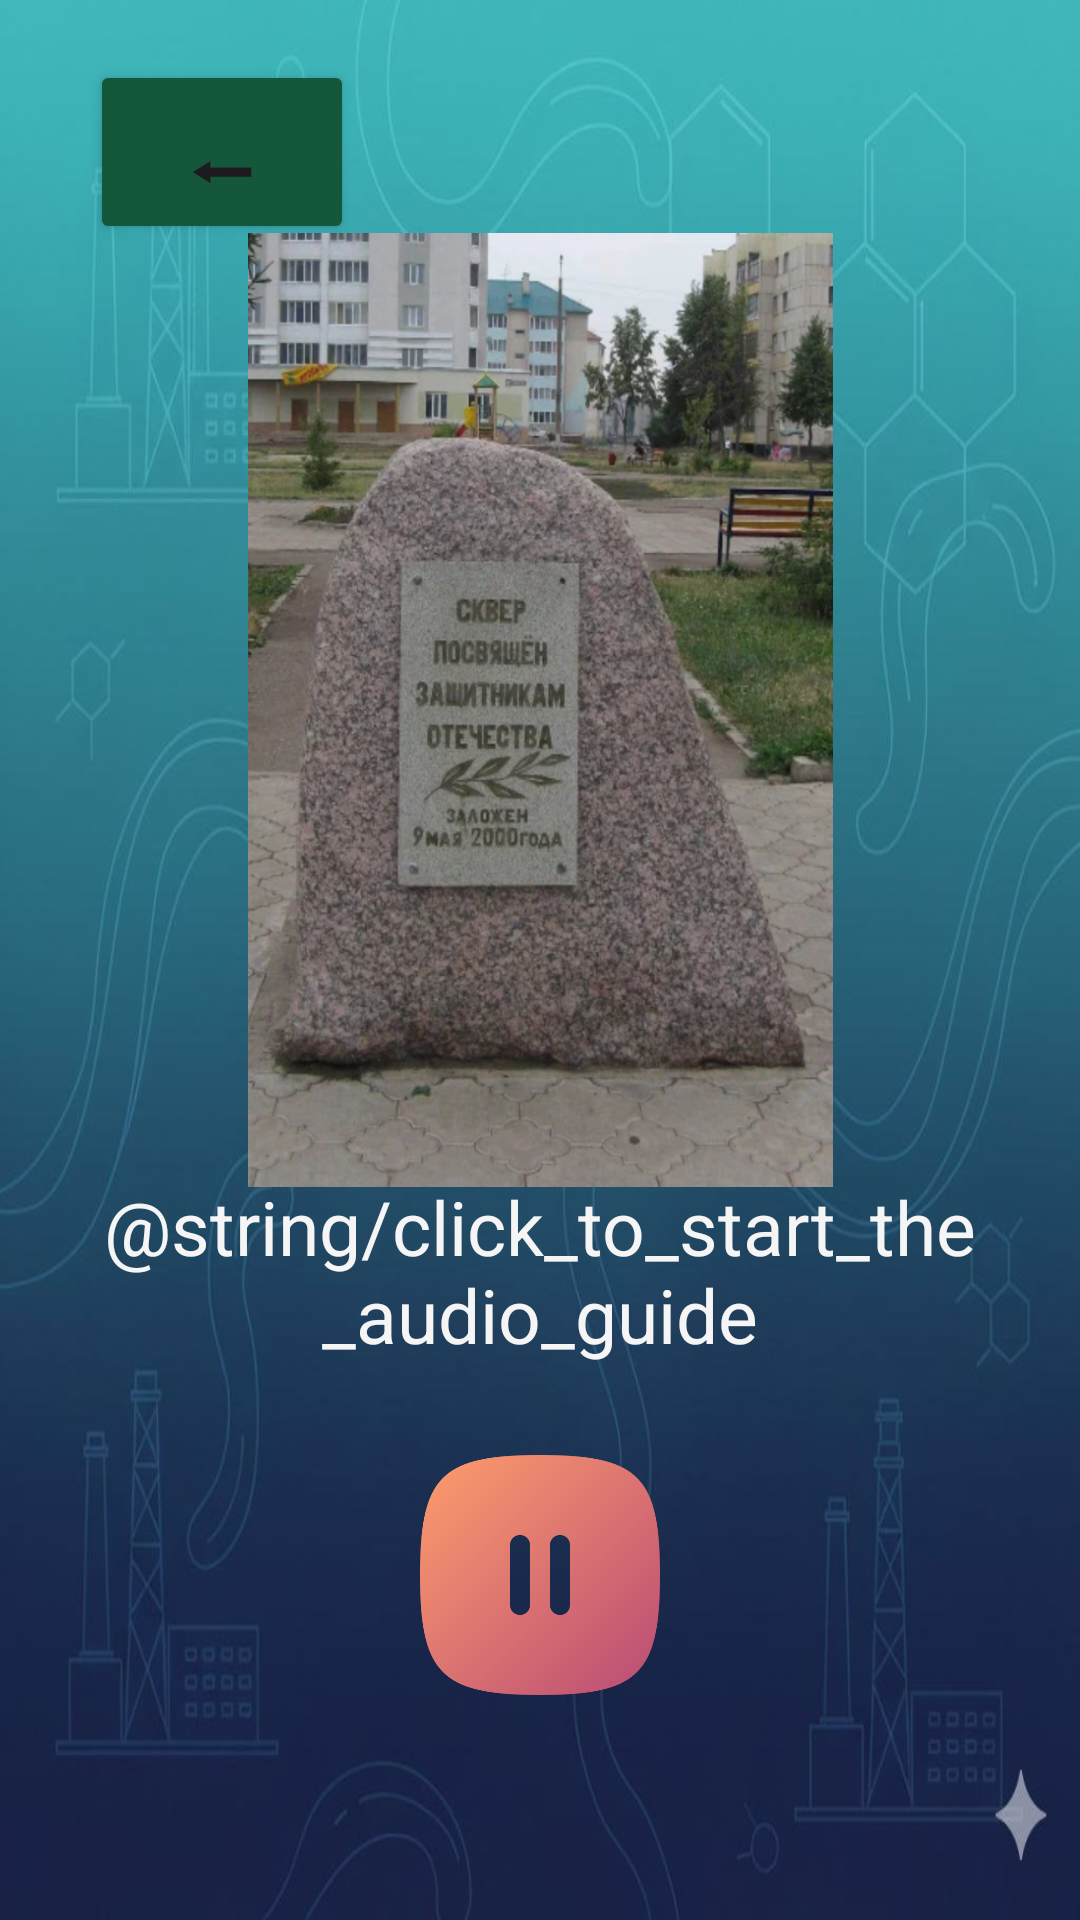

Named icons in this screenshot (1080 × 1920) and their centers, [x,y]:
pausebtn: [540,1575]
